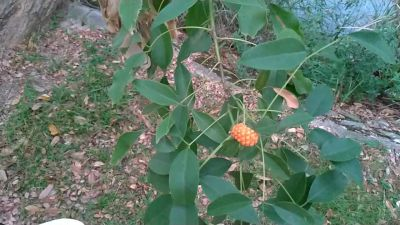eggs: (231, 116, 260, 148)
